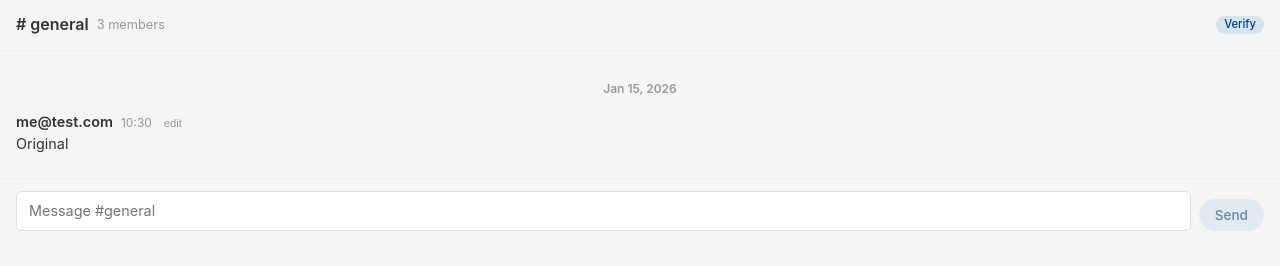
Test: MessageArea › cancels edit mode
Click the button "edit" at (173, 123), box x1=160 y1=117 x2=186 y2=129
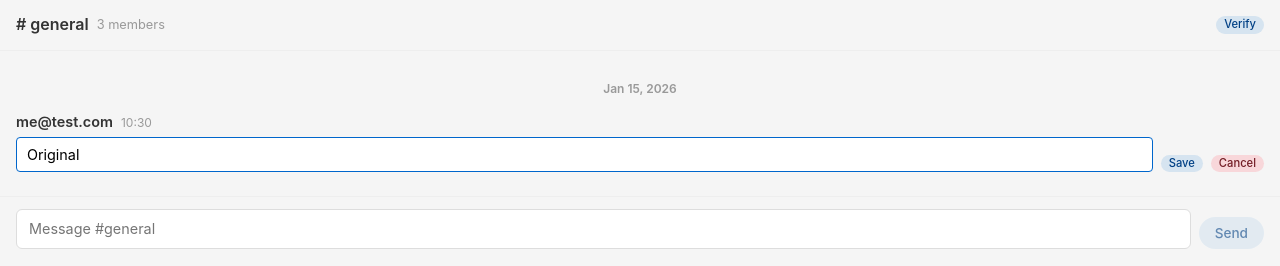
Click the button "Cancel" at (1237, 164), box x1=1211 y1=155 x2=1264 y2=172
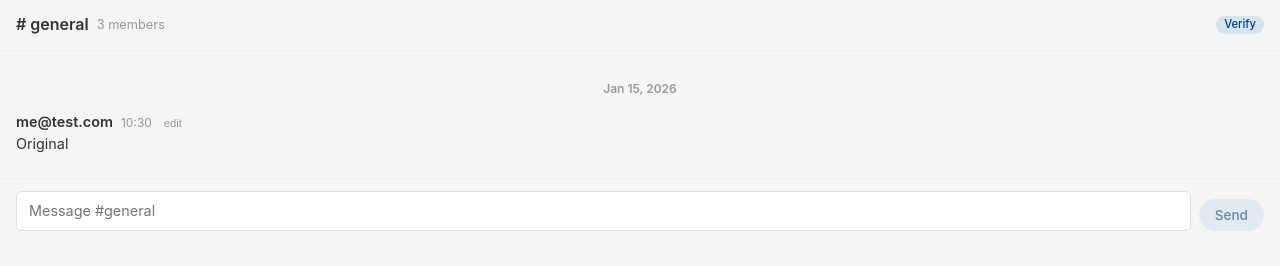
Expected: the button "Save" is gone
Expected: the text "Original" is shown, x1=16 y1=135 x2=68 y2=152
